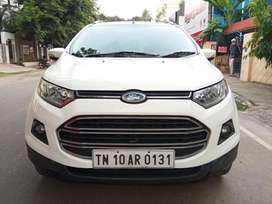TN10AR0131: (93, 149, 173, 168)
